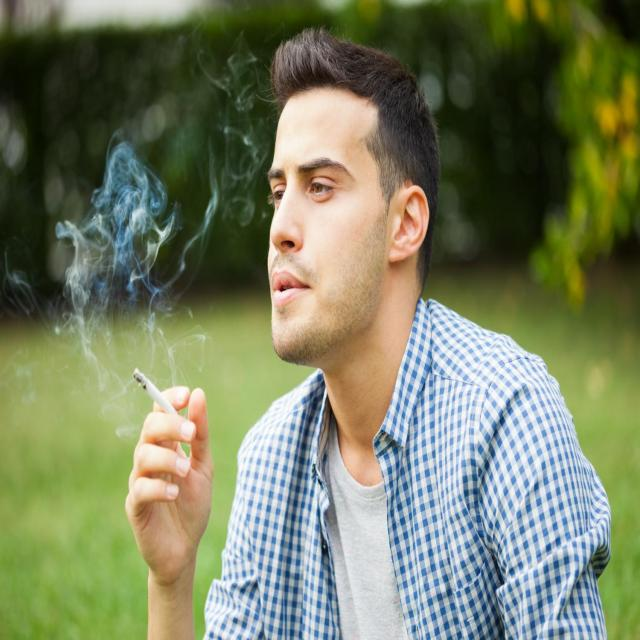cigarette: (130, 367, 184, 420)
